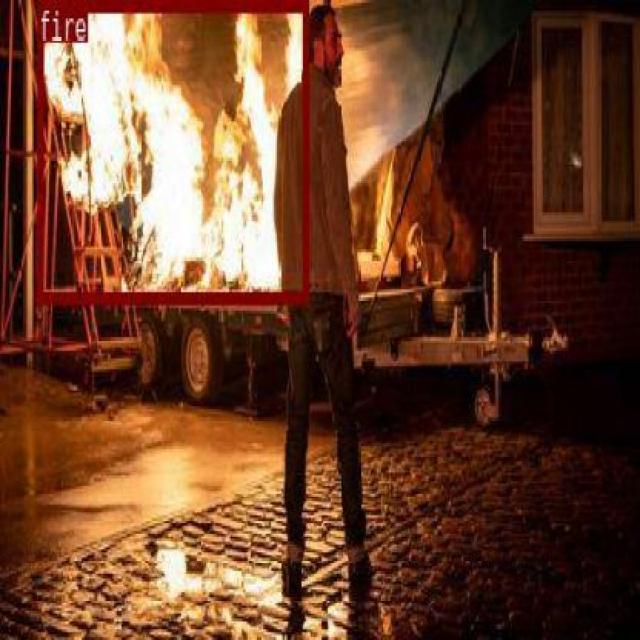Fire: (36, 0, 307, 300)
